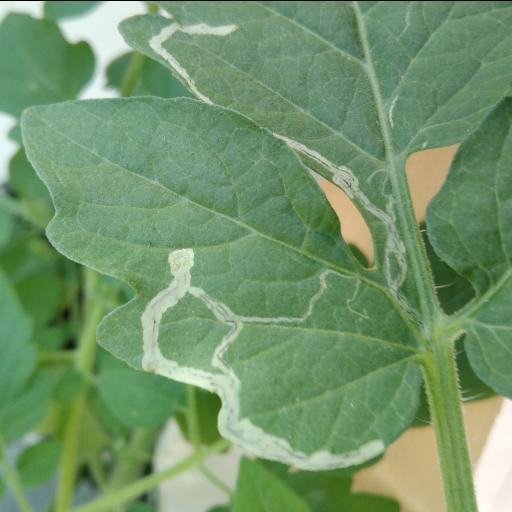Leaf Miner: (14, 0, 422, 473)
